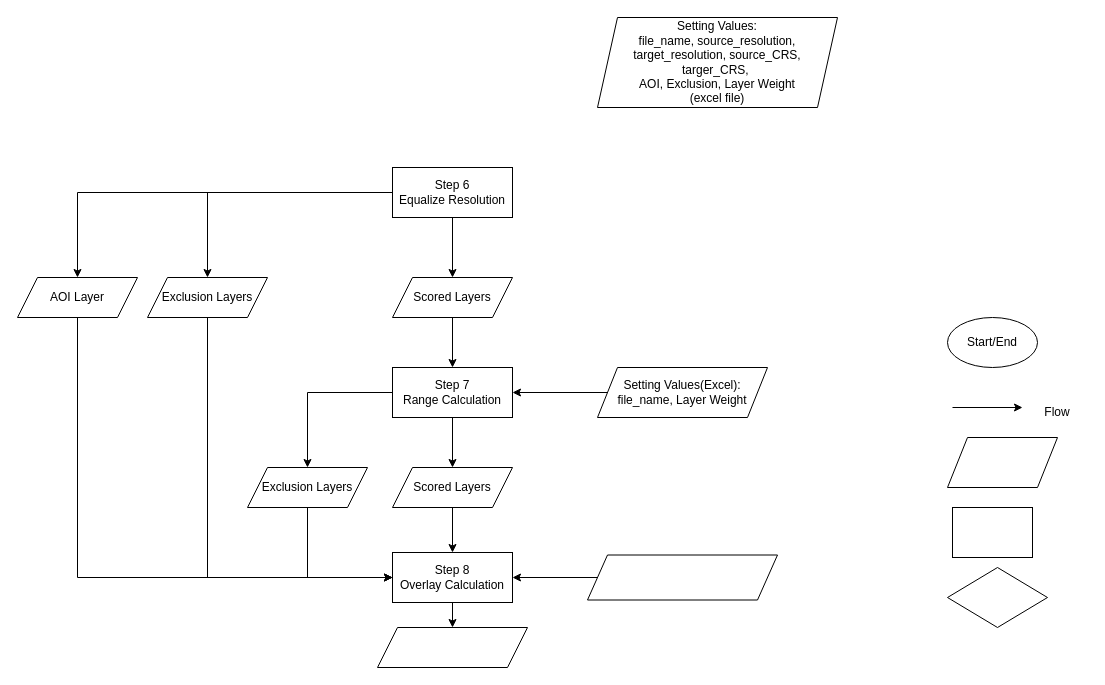
Image size: 1105x685. Some labels were removed from this diagram. The box of each missing label's shape, as (x1, y1, x2, y2) in pixels:
Decision: (946, 566, 1048, 628)
Input/Output: (946, 436, 1058, 488)
MCA Result raster file: (376, 626, 528, 668)
Process: (952, 506, 1032, 558)
Setting Values(Excel): file_name, AOI, Exclusion, Layer Weight: (586, 554, 778, 600)
